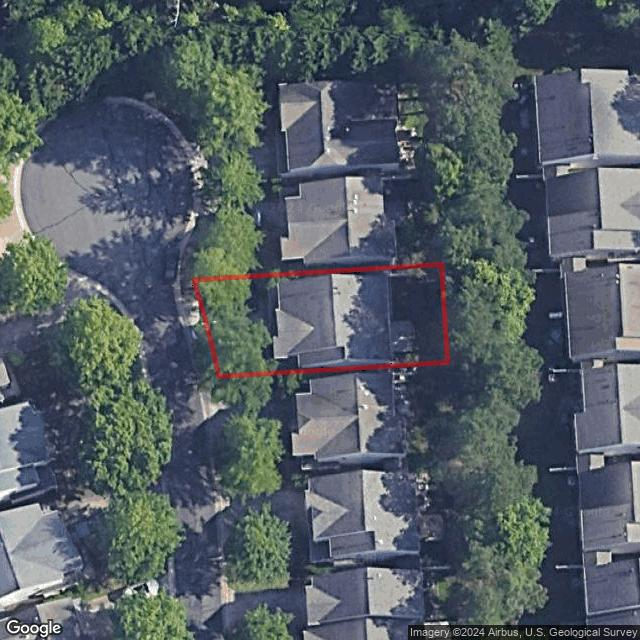Driveway: (206, 312, 277, 343)
Extra-Driveway: (188, 321, 211, 349)
Extra-Lawn: (181, 281, 203, 324), (195, 344, 218, 380)
House: (273, 273, 392, 369)
Lawn: (195, 265, 448, 377)
Other: (391, 320, 423, 353)
Sidewalk: (257, 335, 300, 371)
